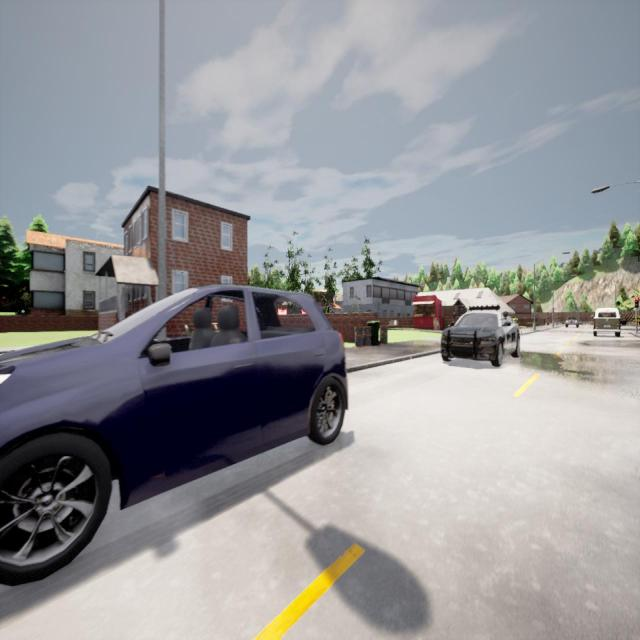Vehicle: (0, 286, 356, 589), (440, 304, 520, 366), (592, 307, 622, 337), (566, 316, 579, 328)
traffic_light: (635, 297, 639, 308)
